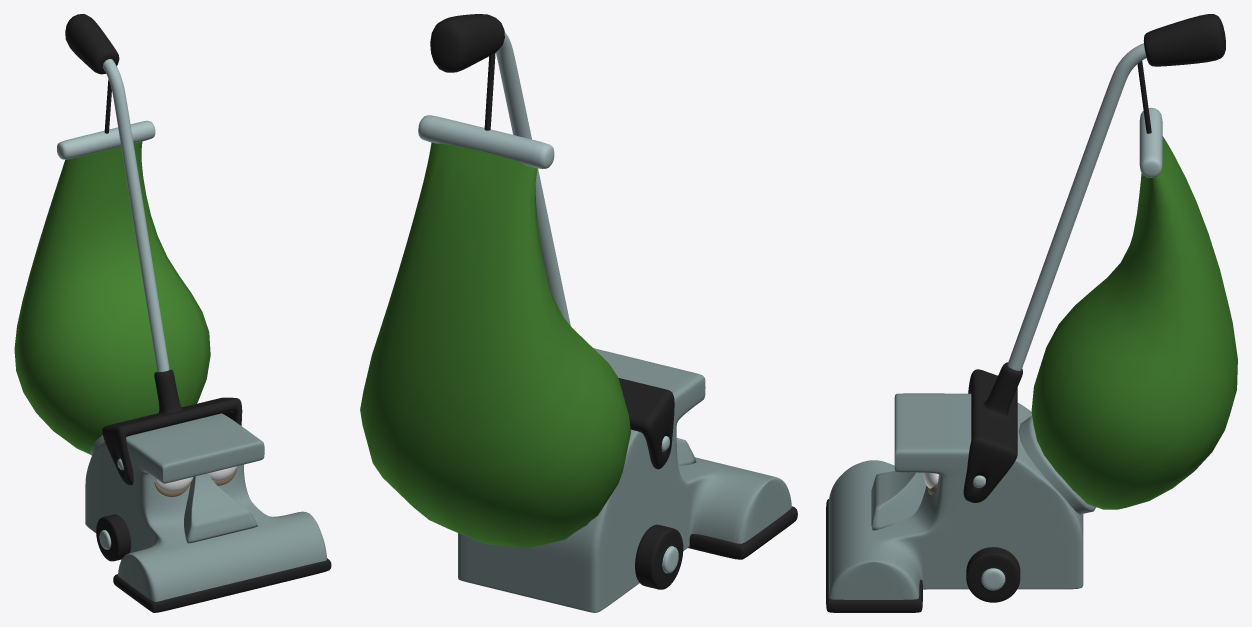
The model's file is kirby_-_the_brave_little_toaster.glb.
The picture shows the model from 3 angles, left to right: view 1: azimuth 30°, elevation 25°; view 2: azimuth 150°, elevation 25°; view 3: azimuth 270°, elevation 25°; orthographic projection. The views are drawn at different scales.
Visible parts, largest first — view 1: Cube.003_10, Cylinder_4, Cylinder.002_12, Cube.001_8, Cube_5, Cube.002_9, Cube.004_13, Cube.005_14, Cylinder.001_11, Sphere_6; view 2: Cube.003_10, Cylinder_4, Cube.005_14, Cylinder.002_12, Cube.004_13, Cube.001_8, Cylinder.001_11, Cube.002_9; view 3: Cube.003_10, Cylinder_4, Cube.001_8, Cylinder.002_12, Cube.004_13, Cube_5, Cylinder.001_11, Cube.002_9, Cube.007_16, Cube.005_14.
Part boxes in pixels (x1,y1,x2,y2): Cube.003_10: (14, 141, 210, 454); Cylinder_4: (85, 413, 326, 601); Cylinder.002_12: (102, 59, 169, 372); Cube.001_8: (102, 369, 242, 485); Cube_5: (184, 473, 257, 543); Cube.002_9: (113, 558, 331, 612); Cube.004_13: (65, 14, 119, 74); Cube.005_14: (57, 120, 155, 159); Cylinder.001_11: (96, 514, 131, 561); Sphere_6: (154, 466, 237, 491); Cube.003_10: (360, 142, 630, 547); Cylinder_4: (458, 348, 791, 612); Cube.005_14: (418, 115, 554, 169); Cylinder.002_12: (495, 32, 570, 325); Cube.004_13: (430, 14, 504, 72); Cube.001_8: (618, 378, 674, 469); Cylinder.001_11: (635, 524, 683, 589); Cube.002_9: (688, 506, 797, 559); Cube.003_10: (1031, 136, 1237, 509); Cylinder_4: (828, 393, 1083, 599); Cube.001_8: (963, 362, 1022, 502); Cylinder.002_12: (1007, 43, 1146, 370); Cube.004_13: (1143, 14, 1225, 66); Cube_5: (871, 471, 926, 530); Cylinder.001_11: (966, 547, 1020, 602); Cube.002_9: (826, 499, 922, 612); Cube.007_16: (1018, 416, 1096, 514); Cube.005_14: (1139, 107, 1162, 177).
Size of what is drawn, in the model's own units: 1.62 by 3.97 by 2.7.
Materials: 3 (3 with a texture image).
